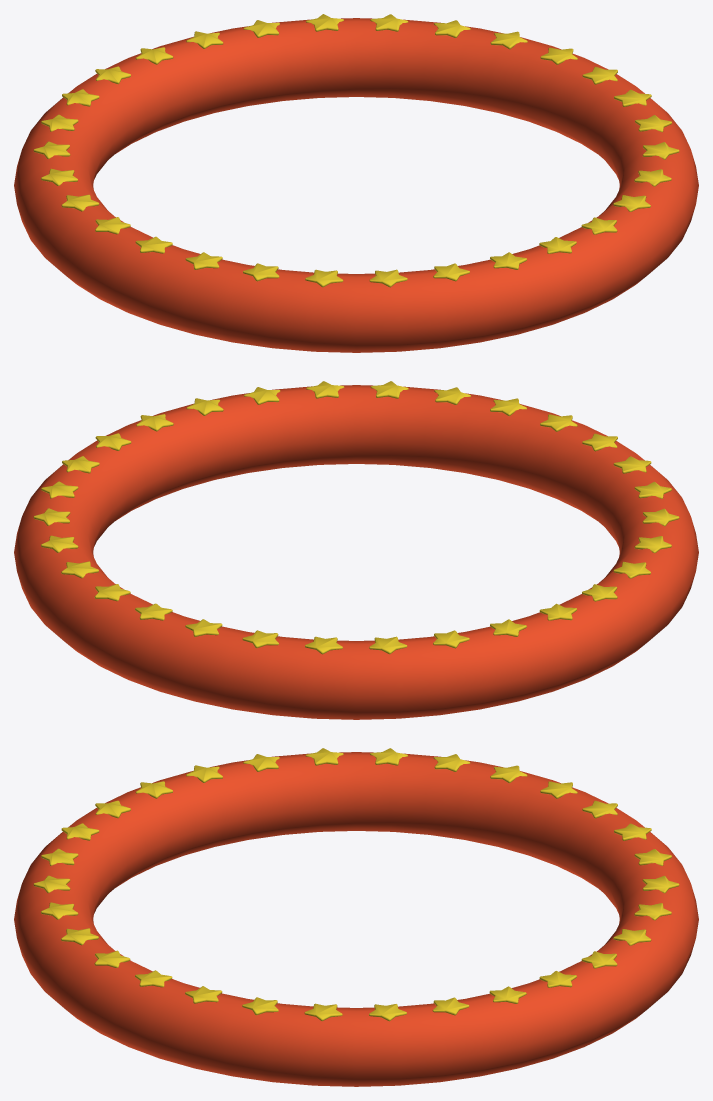
Rendered from GoalRing.fbx.
3 views of the same model, one above another, from view 1: azimuth 30°, elevation 25°; view 2: azimuth 150°, elevation 25°; view 3: azimuth 270°, elevation 25° (orthographic).
Parts seen in each view (by area): view 1: Torus, Cylinder; view 2: Torus, Cylinder; view 3: Torus, Cylinder.
Boxes of the visible parts, x1,y1,x2,y2 form: Torus: [14, 18, 698, 352]; Cylinder: [33, 14, 679, 287]; Torus: [14, 385, 698, 719]; Cylinder: [33, 381, 679, 654]; Torus: [14, 752, 698, 1086]; Cylinder: [33, 748, 679, 1021].
Bounding box in the file's own units: 2261 × 262 × 2261.
